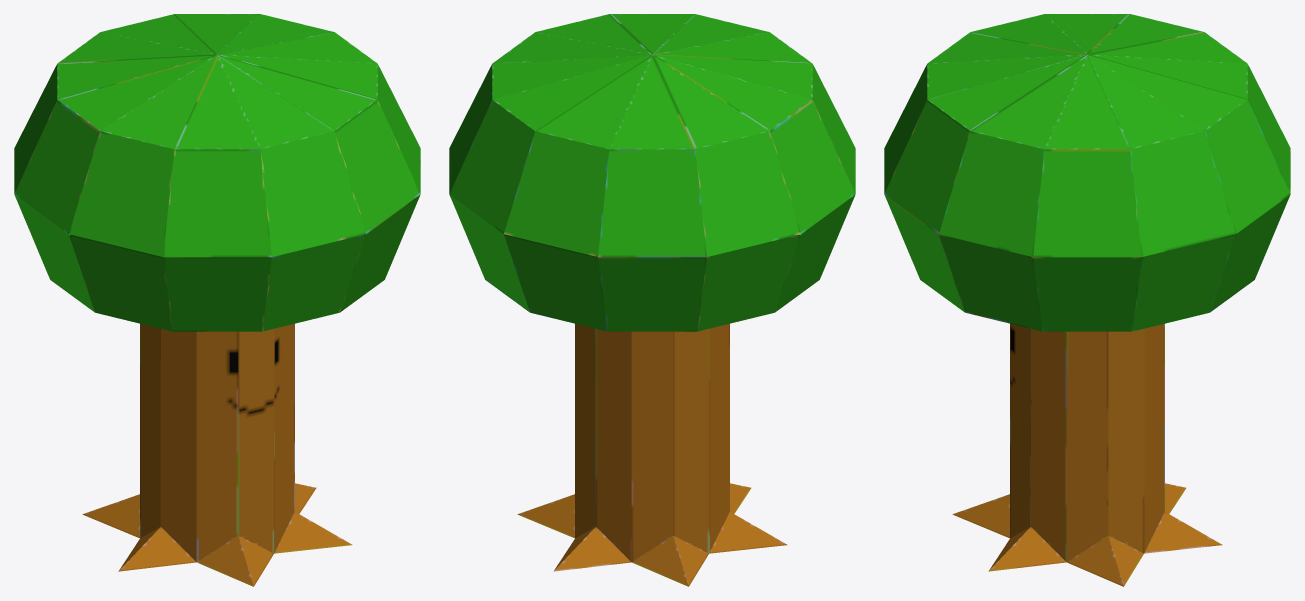
Rendered from wise-oak.obj.
The picture shows the model from 3 angles, left to right: view 1: azimuth 30°, elevation 25°; view 2: azimuth 150°, elevation 25°; view 3: azimuth 270°, elevation 25°; orthographic projection.
Parts seen in each view (by area): view 1: cylinder; view 2: cylinder; view 3: cylinder.
Boxes of the visible parts, x1,y1,x2,y2 form: cylinder: (14,14,420,586); cylinder: (449,14,855,586); cylinder: (884,14,1290,586).
Size of the model in its own units: 1.19 by 1.53 by 1.19.
1 material, 1 textured.
